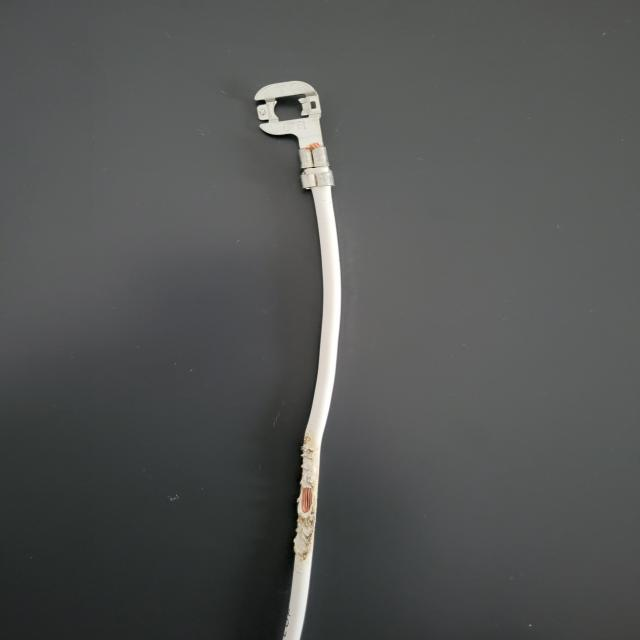defect: (262, 427, 354, 592)
